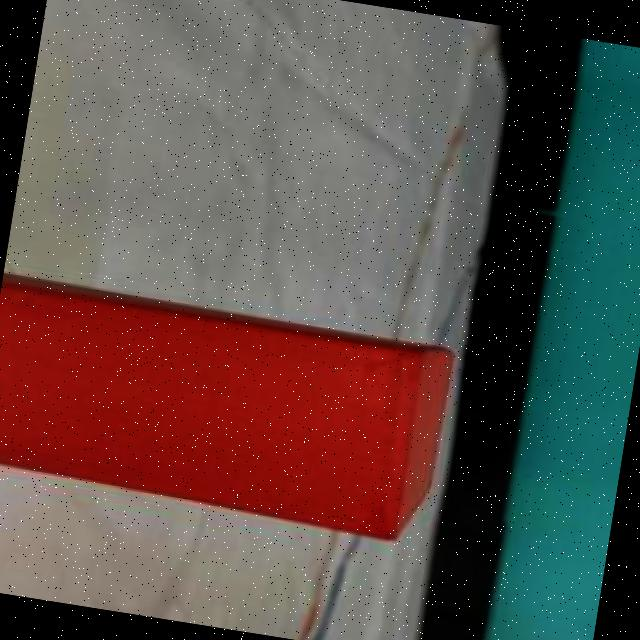redbox: (0, 280, 454, 531)
